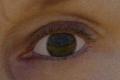eye: (47, 34, 77, 57)
